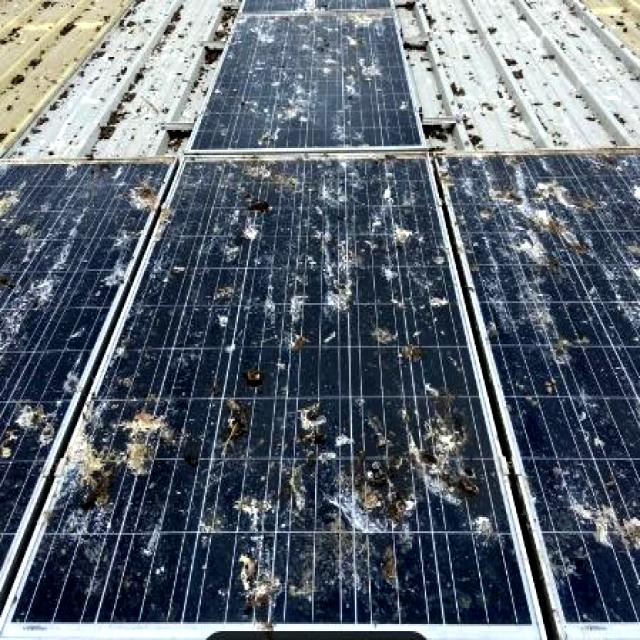bird: (564, 435, 640, 557), (512, 174, 615, 261), (105, 394, 172, 484), (378, 421, 478, 477), (206, 182, 286, 250), (236, 536, 304, 606), (130, 167, 180, 236), (298, 402, 344, 476), (0, 256, 51, 322), (0, 401, 66, 451), (372, 190, 433, 238), (318, 264, 362, 326), (209, 405, 254, 464), (466, 500, 507, 564), (367, 320, 420, 368), (230, 331, 270, 394), (528, 338, 570, 397), (414, 286, 456, 324)
